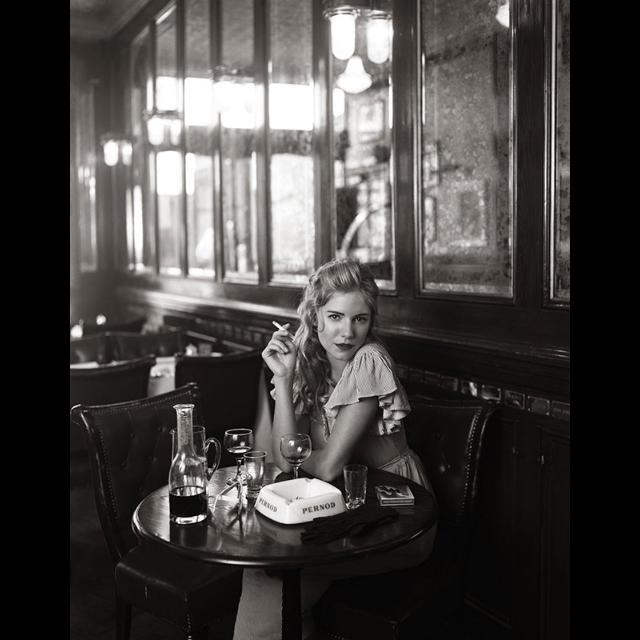rokok: (272, 318, 286, 334)
